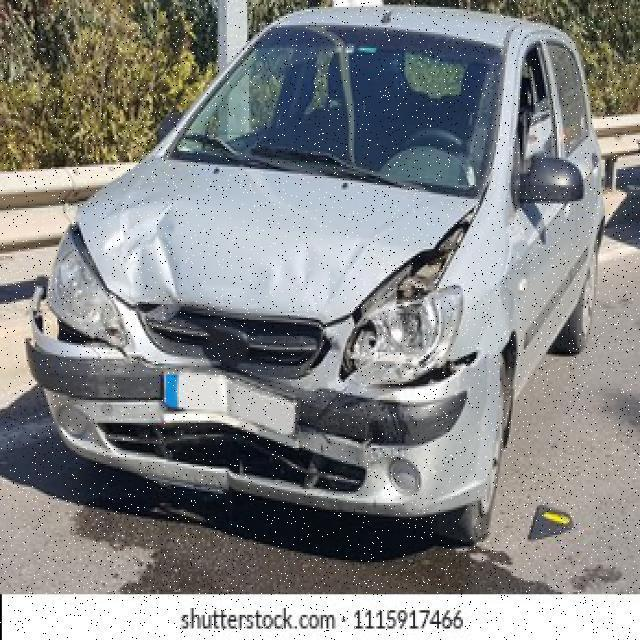bonnet-dent: (72, 166, 470, 326)
front-bumper-dent: (16, 288, 492, 498)
